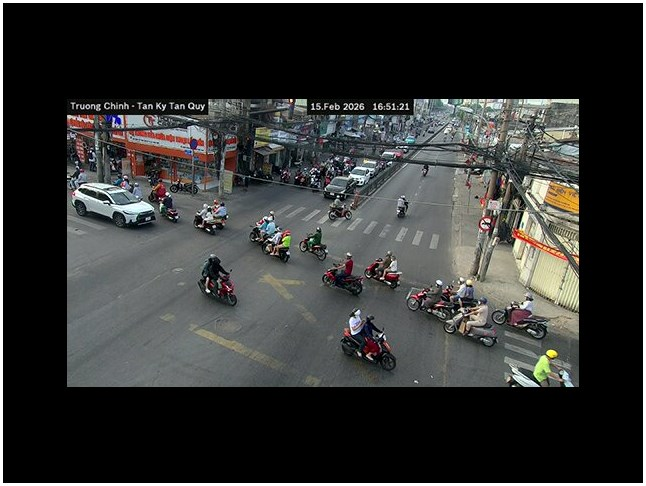car: (73, 181, 157, 228), (322, 174, 363, 202)
motorbike: (340, 324, 397, 371), (491, 300, 549, 340), (198, 264, 237, 306), (321, 264, 366, 298), (396, 194, 408, 218)
